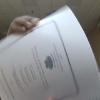notebook: (0, 4, 99, 99)
